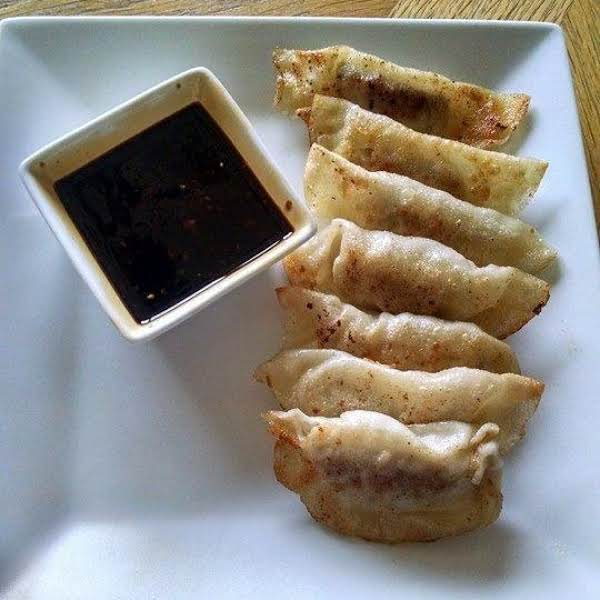fried_dumplings: (271, 429, 500, 519), (314, 355, 527, 432), (326, 61, 498, 147), (362, 176, 529, 264), (310, 303, 515, 374), (340, 238, 510, 321), (353, 121, 507, 196)
